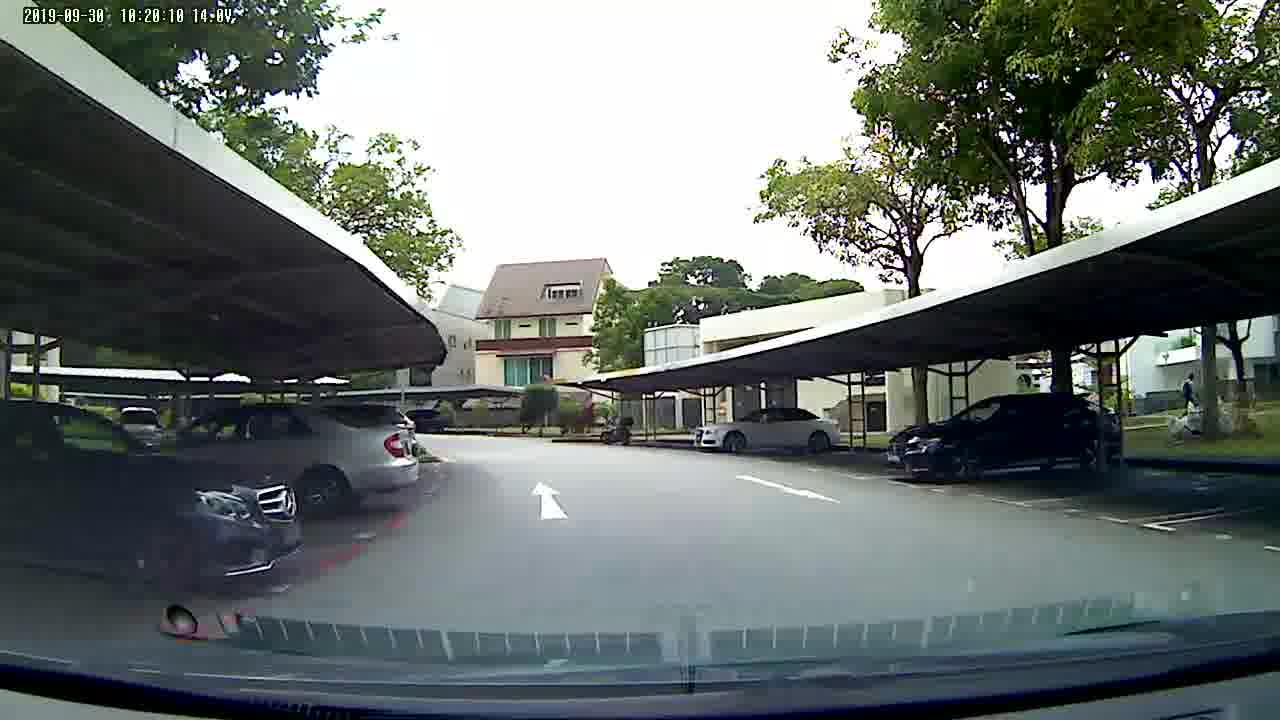car: (1, 398, 308, 598), (872, 388, 1127, 495), (683, 400, 851, 464)
